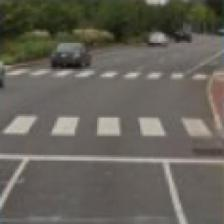crosswalk: (0, 89, 222, 151)
